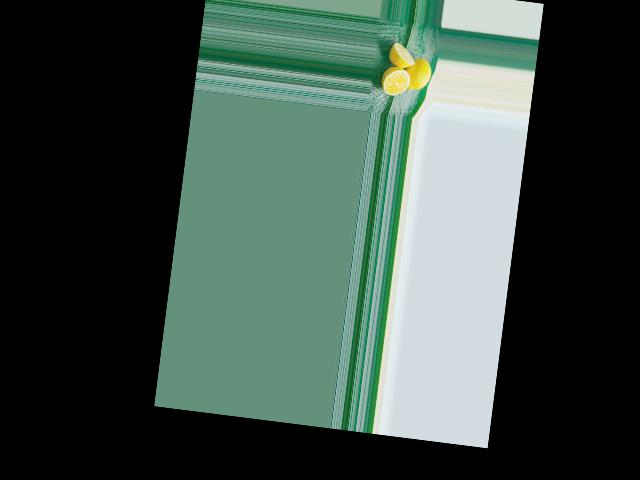lemon: (401, 56, 432, 97)
